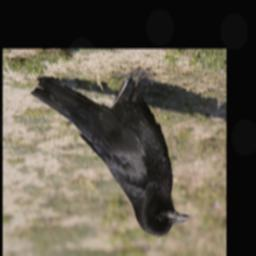Crow: (30, 67, 192, 238)
